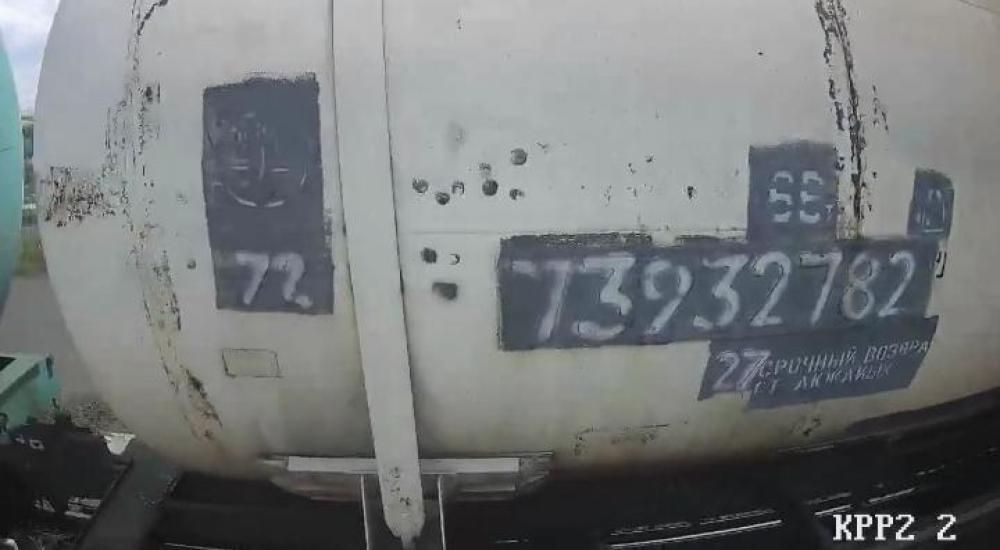Wagon-number: (501, 242, 916, 344)
